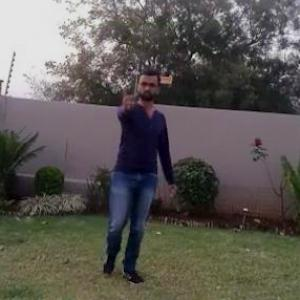takeoff-hand: (116, 81, 142, 112)
